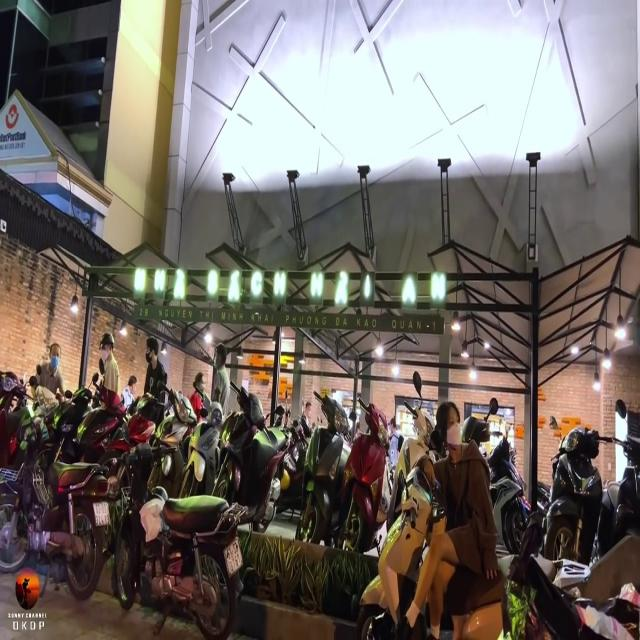bien_trang: (224, 542, 243, 570), (94, 502, 110, 523)
